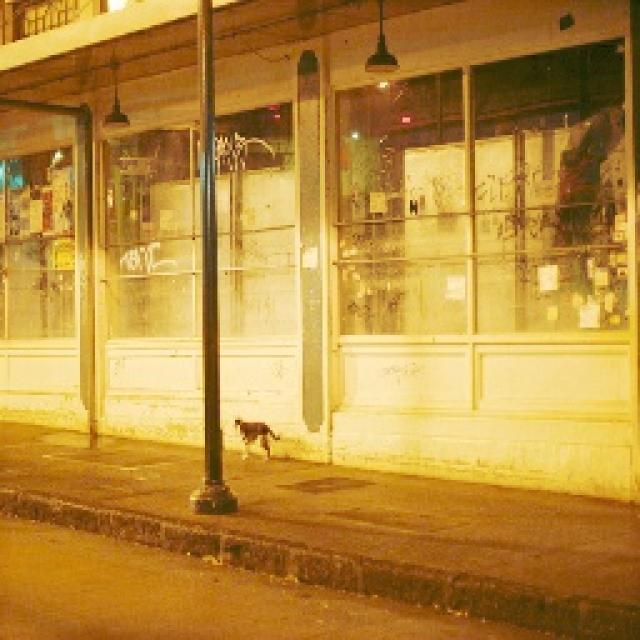cat: (218, 402, 299, 468)
